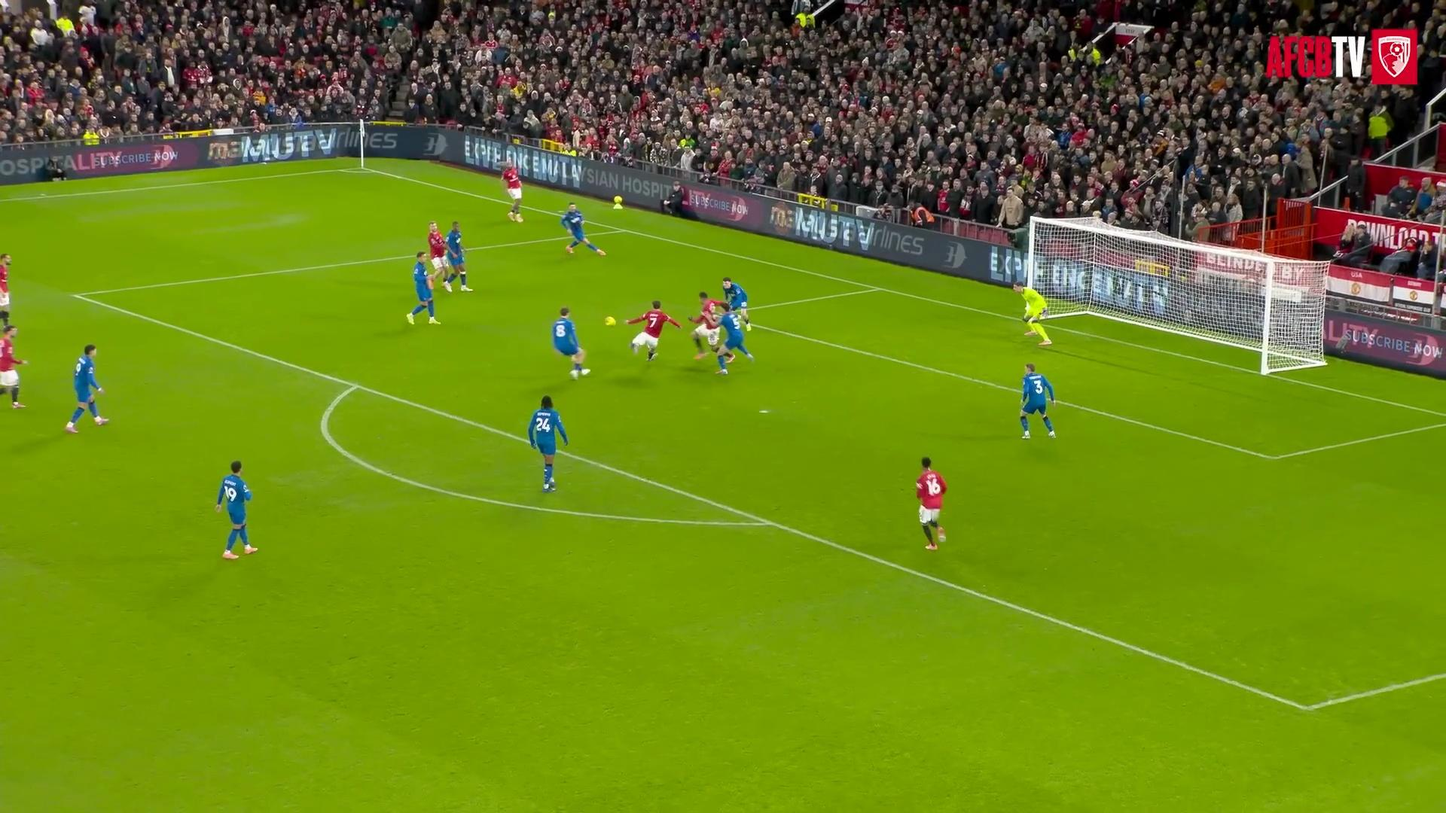football: (605, 316, 615, 325)
player: (216, 461, 258, 559), (528, 395, 568, 492), (65, 345, 108, 433), (626, 300, 680, 361), (916, 457, 947, 550), (551, 307, 590, 379), (1020, 364, 1055, 438), (717, 303, 753, 373), (1012, 282, 1051, 346), (406, 252, 439, 324), (560, 203, 605, 255), (688, 292, 723, 358), (0, 324, 26, 408), (445, 221, 471, 291), (429, 221, 450, 292), (722, 277, 750, 330), (501, 161, 523, 222), (0, 253, 11, 325)
